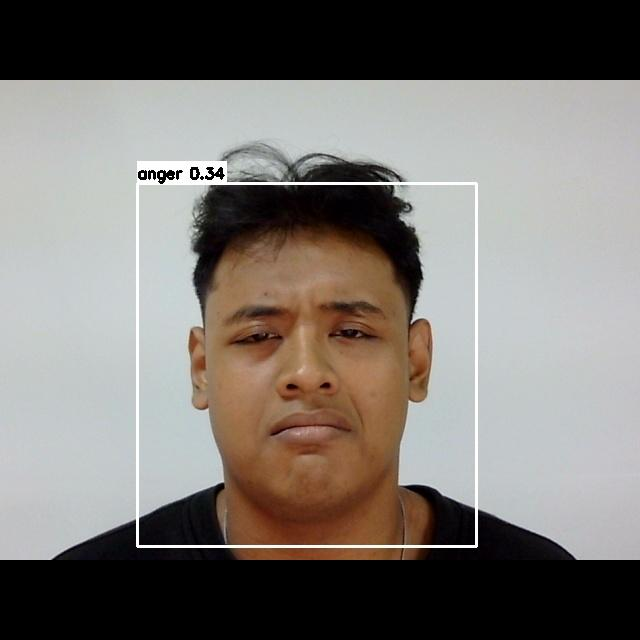Sad: (196, 296, 419, 481)
